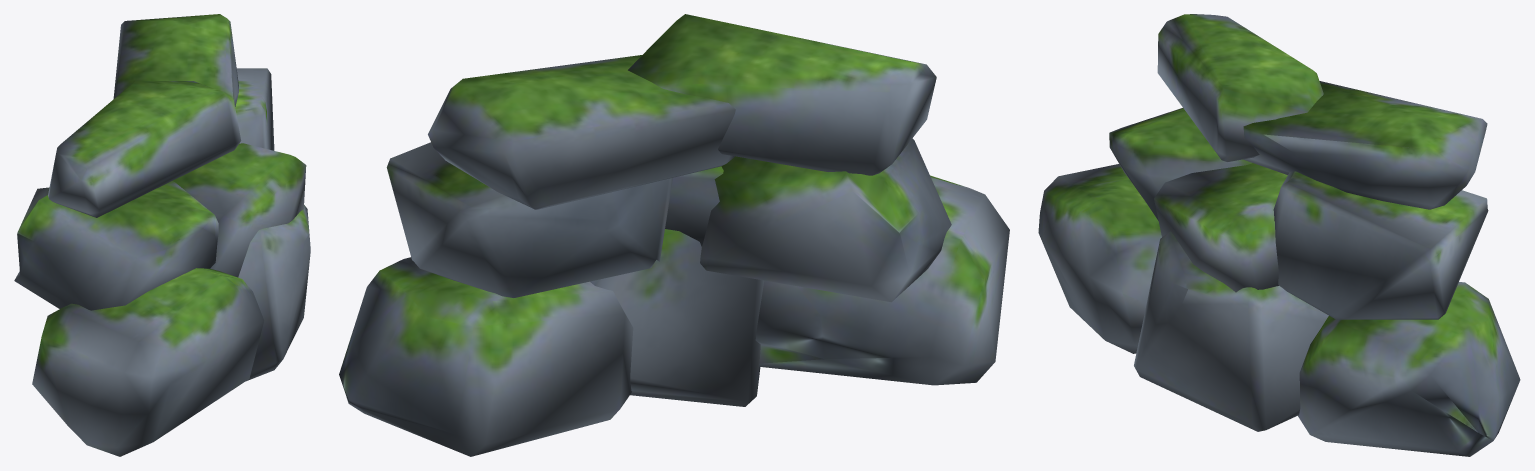
Rendered from cliff_b_lod1.glb.
3 views of the same model, side by side, from view 1: azimuth 30°, elevation 25°; view 2: azimuth 150°, elevation 25°; view 3: azimuth 270°, elevation 25° (orthographic). The views are drawn at different scales.
Visible parts, largest first — view 1: cliff_b_lod1; view 2: cliff_b_lod1; view 3: cliff_b_lod1.
Part boxes in pixels (x1,y1,x2,y2): cliff_b_lod1: (14, 14, 310, 456); cliff_b_lod1: (339, 14, 1009, 456); cliff_b_lod1: (1038, 14, 1520, 456).
Bounding box in the file's own units: 4.18 × 3.07 × 4.29.
Materials: 1 (1 with a texture image).
